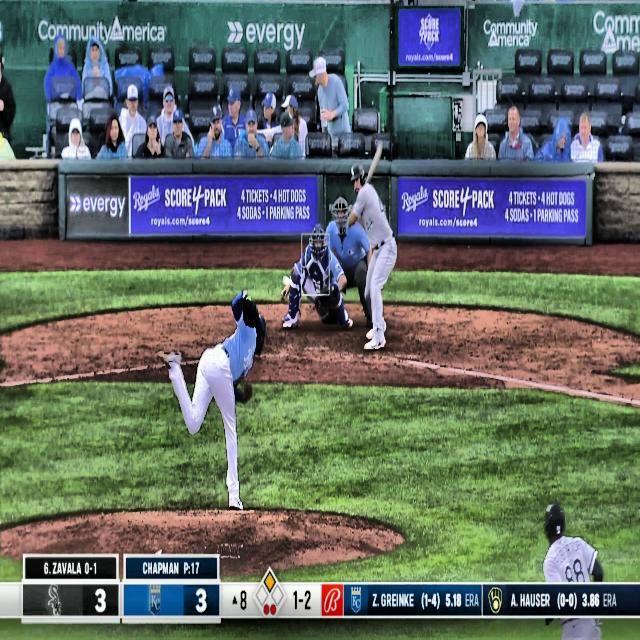baseball: (282, 275, 291, 287)
